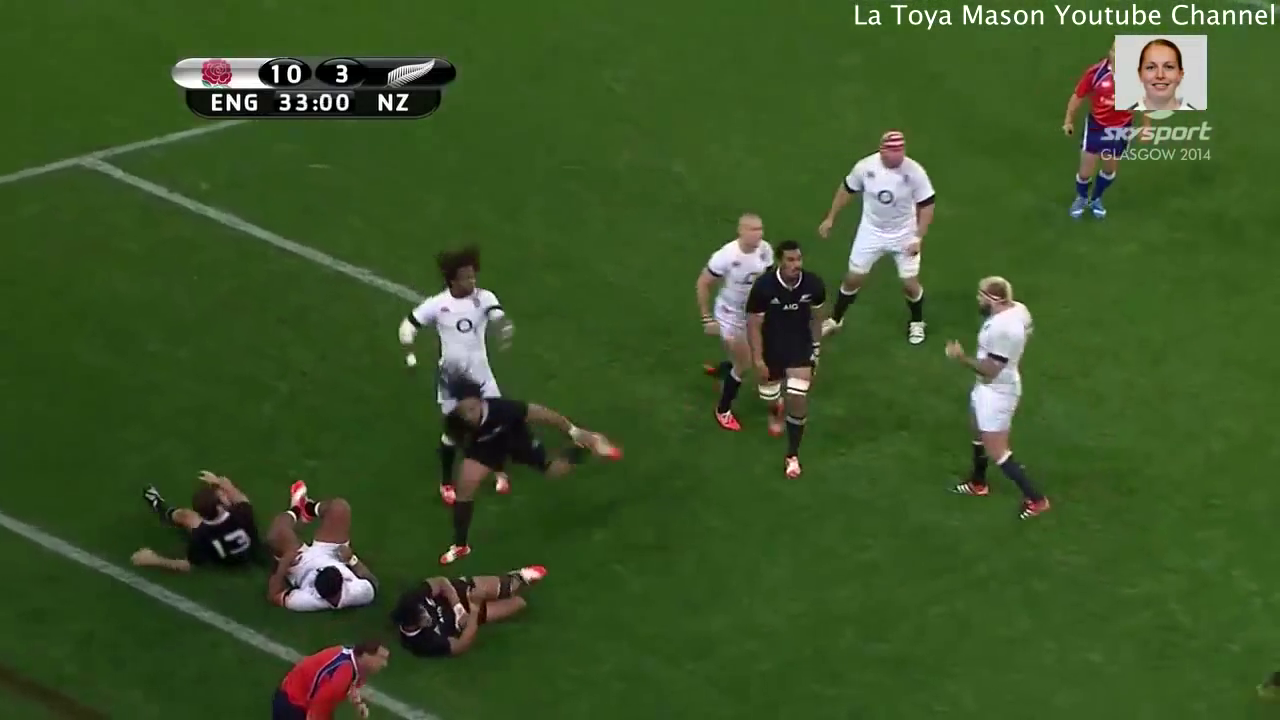player: (384, 248, 519, 505), (932, 268, 1062, 533), (809, 118, 943, 356), (420, 380, 631, 513), (733, 236, 831, 487), (685, 195, 775, 450), (242, 476, 385, 632), (107, 452, 264, 591), (1057, 30, 1158, 244), (386, 551, 555, 671), (258, 630, 413, 720)
